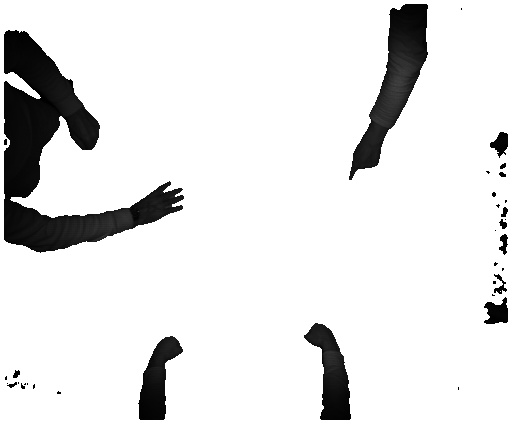fist: (69, 110, 103, 151), (304, 320, 337, 349), (154, 336, 183, 362)
hand: (137, 176, 183, 231), (344, 132, 388, 183)
